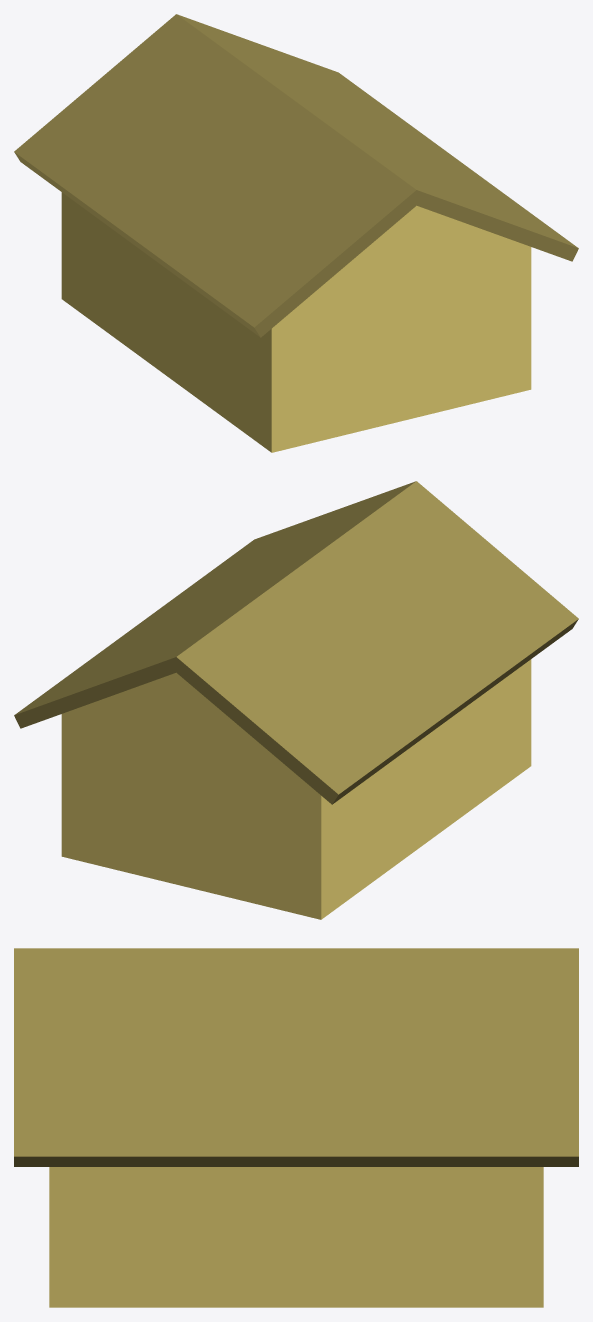
File: result.glb
The picture shows the model from 3 angles, top to bottom: view 1: azimuth 30°, elevation 25°; view 2: azimuth 150°, elevation 25°; view 3: azimuth 270°, elevation 25°; orthographic projection. The views are drawn at different scales.
Visible parts, largest first — view 1: 93c56ad2-3691-4969-969d-c1c448995fa6__undefined (×2), c0eb0297-f4d9-4be8-becc-13a8486f885a__undefined; view 2: 93c56ad2-3691-4969-969d-c1c448995fa6__undefined (×2), c0eb0297-f4d9-4be8-becc-13a8486f885a__undefined; view 3: 93c56ad2-3691-4969-969d-c1c448995fa6__undefined, c0eb0297-f4d9-4be8-becc-13a8486f885a__undefined.
Part boxes in pixels (x1,y1,x2,y2): 93c56ad2-3691-4969-969d-c1c448995fa6__undefined (×2): (14, 14, 578, 337); c0eb0297-f4d9-4be8-becc-13a8486f885a__undefined: (61, 192, 531, 452); 93c56ad2-3691-4969-969d-c1c448995fa6__undefined (×2): (14, 481, 578, 804); c0eb0297-f4d9-4be8-becc-13a8486f885a__undefined: (61, 659, 531, 919); 93c56ad2-3691-4969-969d-c1c448995fa6__undefined: (14, 948, 578, 1166); c0eb0297-f4d9-4be8-becc-13a8486f885a__undefined: (49, 1167, 543, 1307).
Size of the model in its own units: 624 by 445 by 800.
